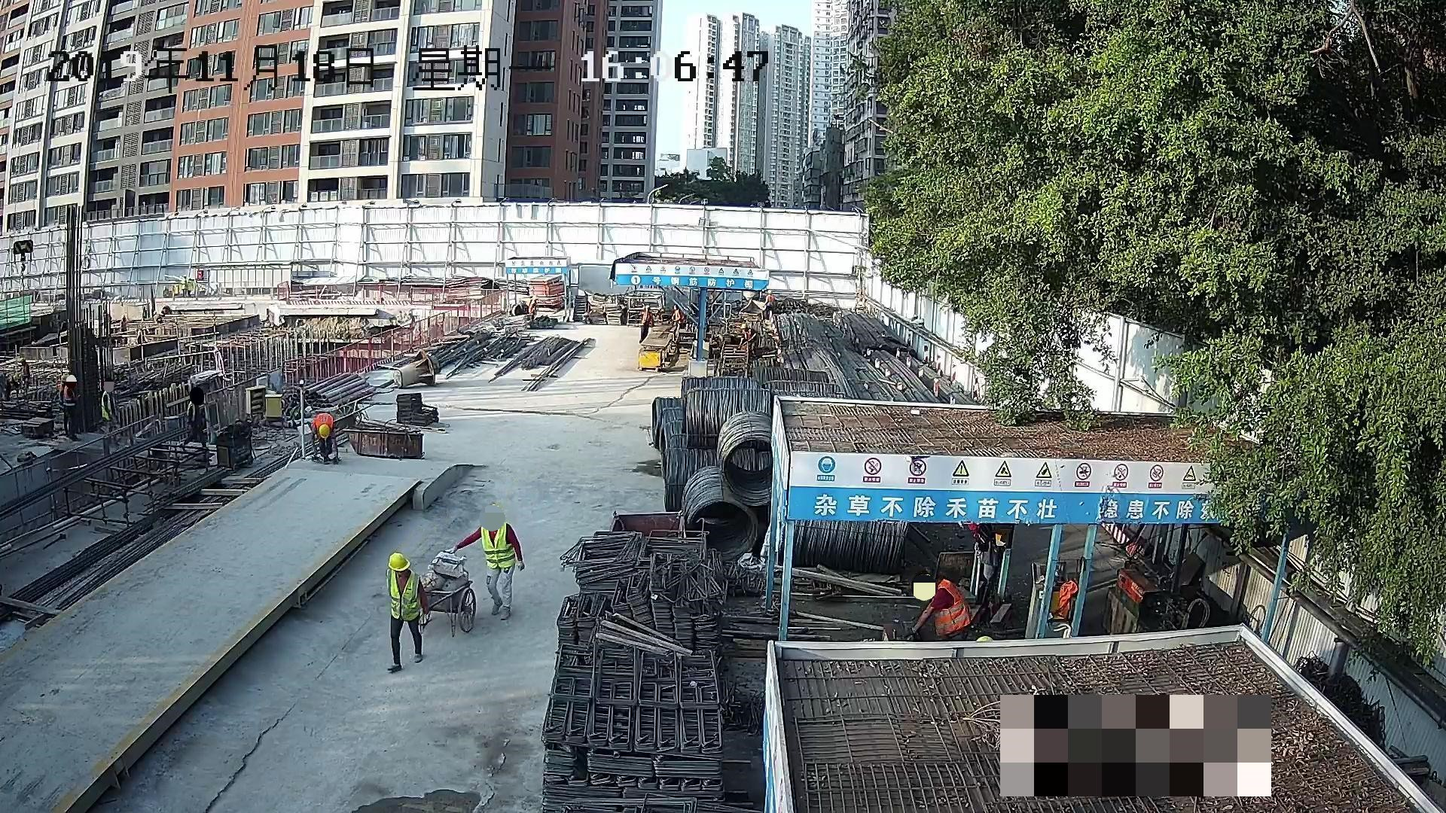hat: (913, 571, 934, 599), (388, 552, 410, 574), (484, 503, 502, 525), (191, 388, 202, 401)
person: (447, 501, 526, 620), (381, 553, 433, 671), (895, 570, 976, 641), (178, 388, 210, 452)
